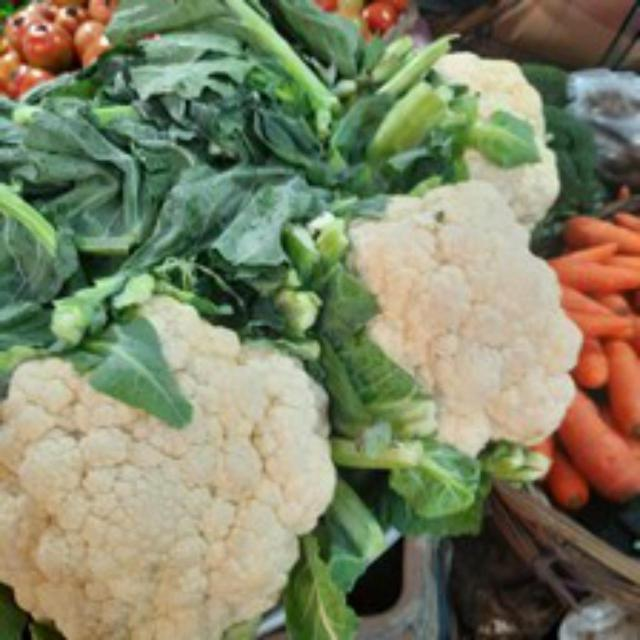cauliflower: (0, 297, 342, 640), (335, 183, 598, 479)
